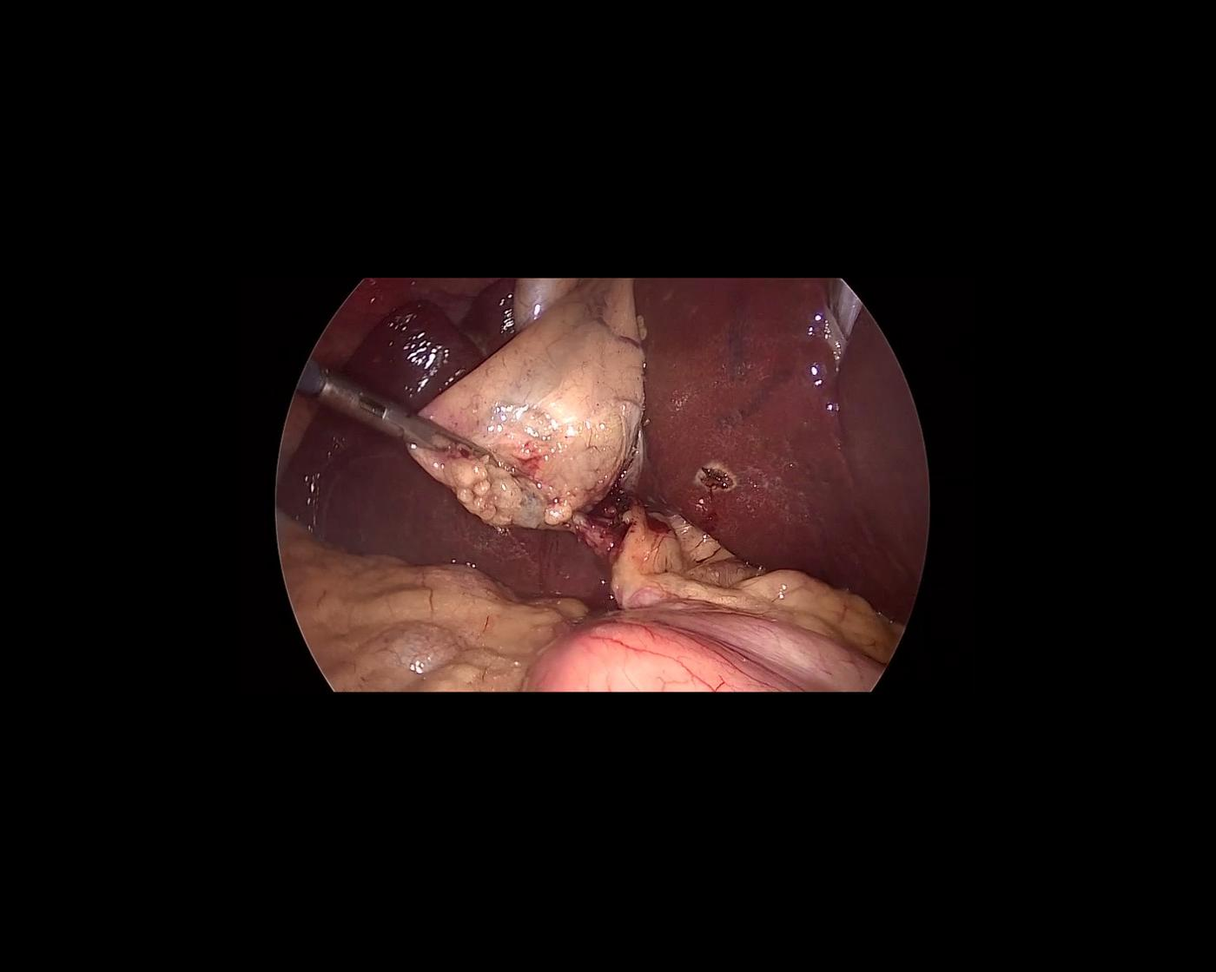Forceps: (293, 357, 485, 482)
Gallbladder: (391, 222, 710, 560)
Liver: (231, 273, 605, 670), (634, 279, 926, 623)
